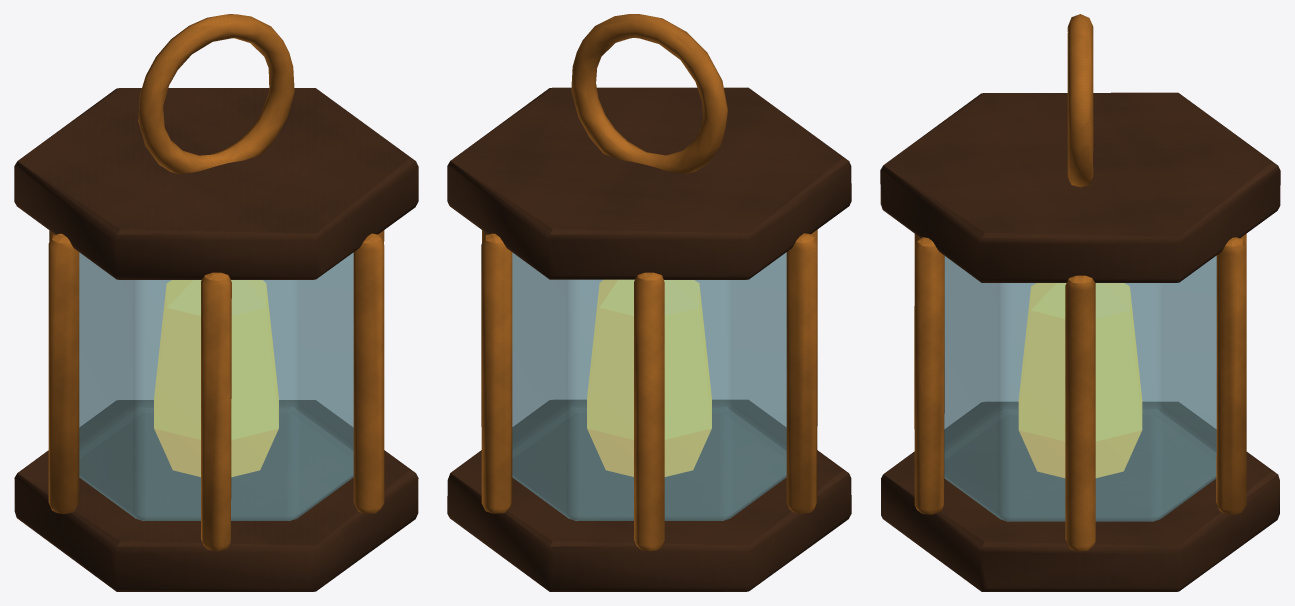
The model's file is relic_05_low.glb.
The picture shows the model from 3 angles, left to right: view 1: azimuth 30°, elevation 25°; view 2: azimuth 150°, elevation 25°; view 3: azimuth 270°, elevation 25°; orthographic projection.
Parts seen in each view (by area): view 1: Patinated_bronze, Smoked_crystal, Brushed_gold, Warm_amber; view 2: Patinated_bronze, Smoked_crystal, Brushed_gold, Warm_amber; view 3: Patinated_bronze, Smoked_crystal, Brushed_gold, Warm_amber.
Part boxes in pixels (x1,y1,x2,y2): Patinated_bronze: (14, 88, 418, 591); Smoked_crystal: (79, 252, 353, 520); Brushed_gold: (48, 14, 384, 551); Warm_amber: (154, 280, 278, 476); Patinated_bronze: (447, 87, 851, 591); Smoked_crystal: (512, 252, 786, 520); Brushed_gold: (481, 14, 817, 551); Warm_amber: (587, 279, 711, 476); Patinated_bronze: (880, 92, 1280, 591); Smoked_crystal: (944, 255, 1216, 521); Brushed_gold: (914, 14, 1246, 551); Warm_amber: (1018, 283, 1142, 477).
Size of the model in its own units: 0.478 by 0.696 by 0.5051.
4 materials, 2 textured.
